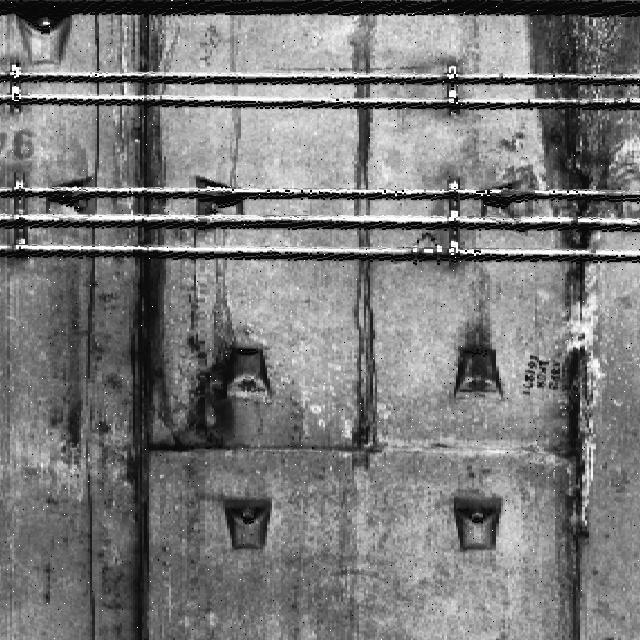leakage: (522, 9, 640, 616), (123, 11, 173, 640), (343, 8, 395, 461), (186, 256, 236, 451), (224, 13, 249, 193)
